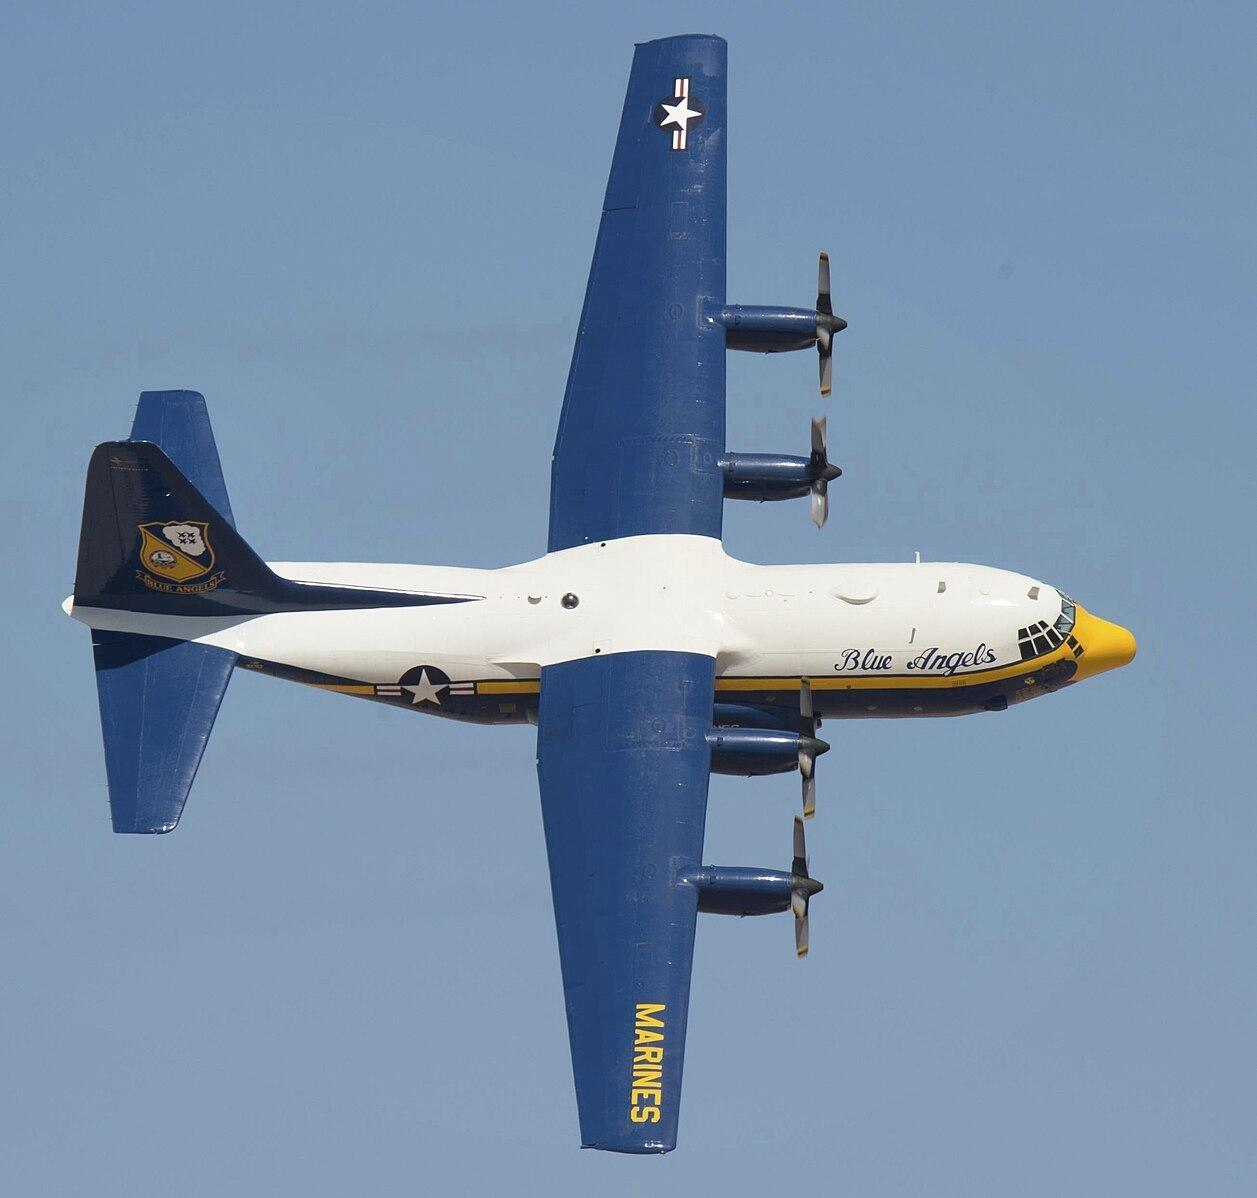Airplane: (48, 26, 1150, 1167)
